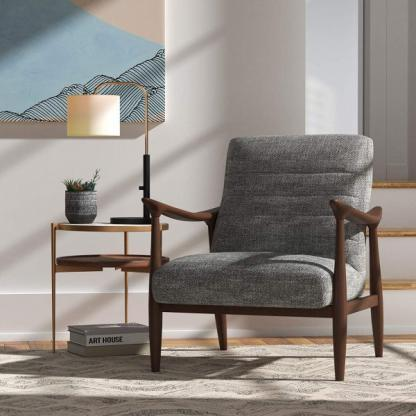chair: (139, 129, 394, 385)
light: (64, 69, 169, 226)
table: (44, 217, 171, 352)
